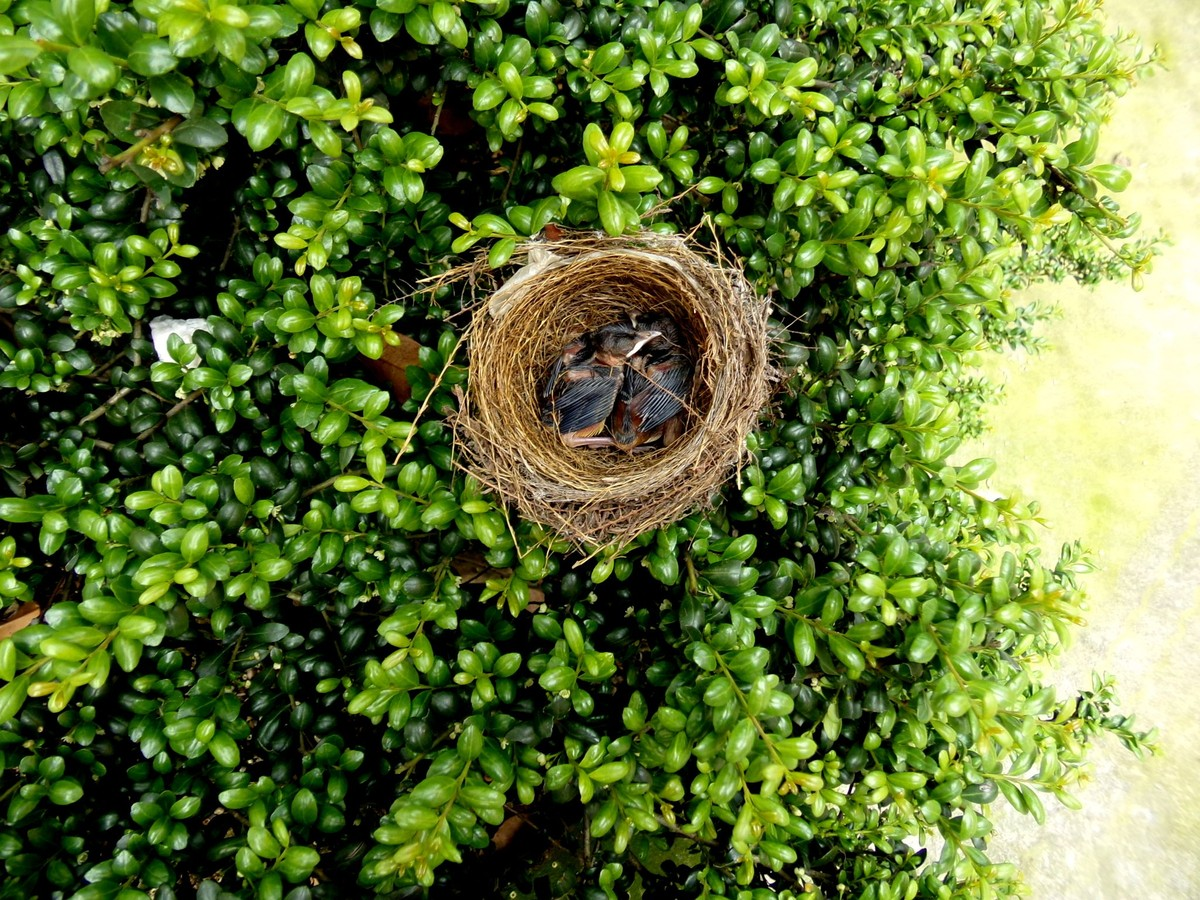bird-nest: (444, 226, 782, 537)
